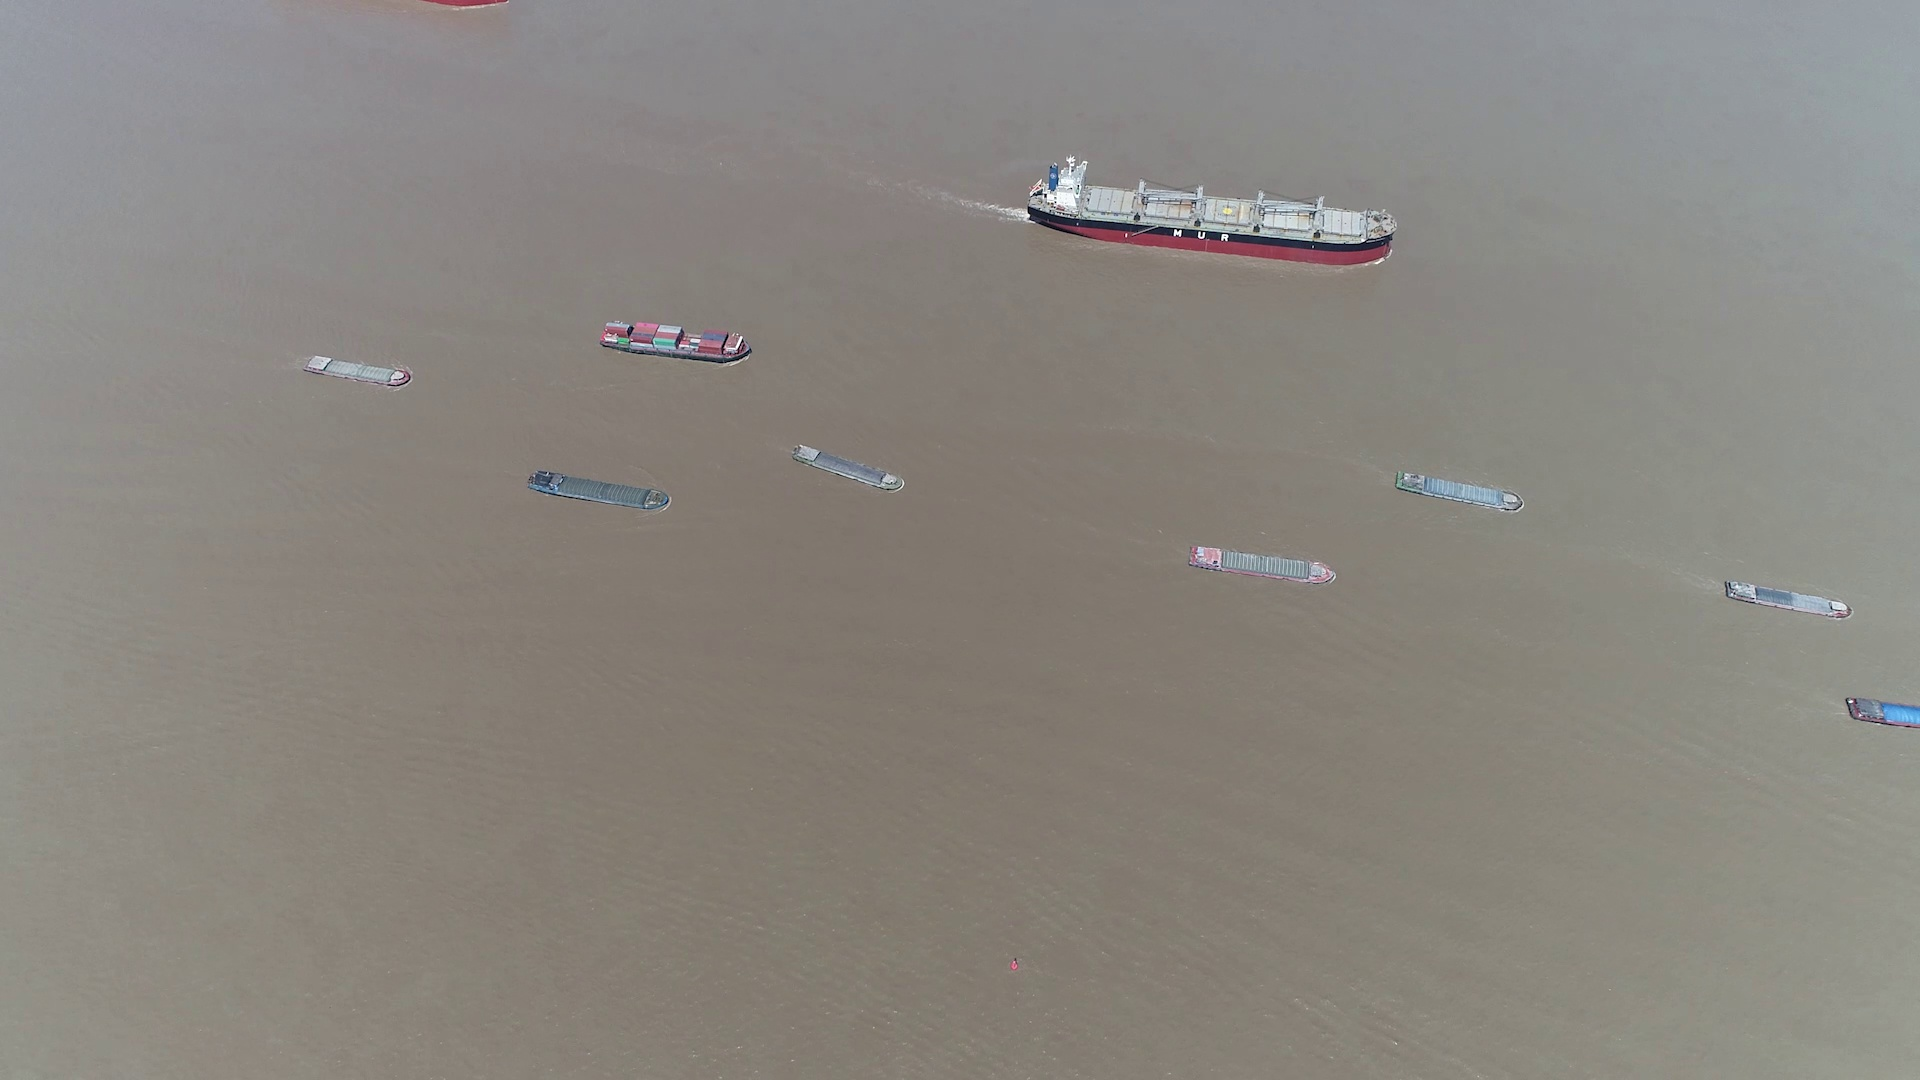ship: (1030, 164, 1393, 262), (600, 322, 756, 363), (529, 471, 670, 514), (1189, 545, 1335, 585), (1395, 469, 1524, 514), (791, 444, 905, 495), (1724, 579, 1851, 620), (302, 353, 411, 386), (1845, 696, 1919, 731)
